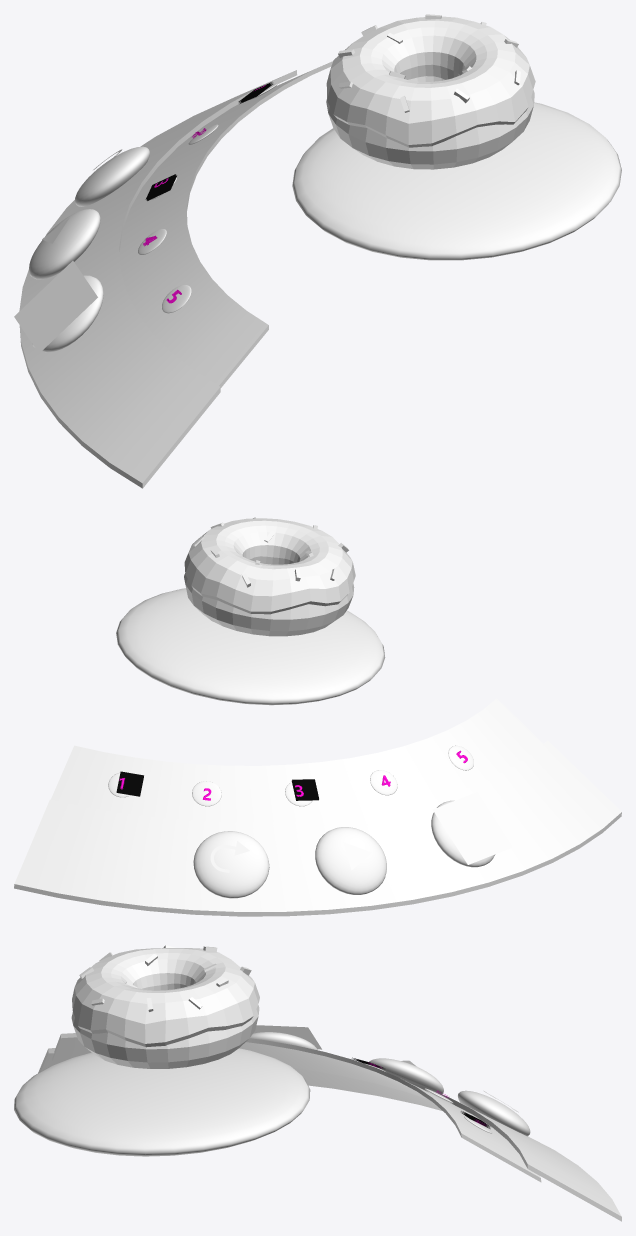
File: dashboard v2.fbx
The picture shows the model from 3 angles, top to bottom: view 1: azimuth 30°, elevation 25°; view 2: azimuth 150°, elevation 25°; view 3: azimuth 270°, elevation 25°; orthographic projection. The views are drawn at different scales.
Visible parts, largest first — view 1: Circle.008 (×2), Sphere_2(Clone) (×4), PbrOpaqueDoubleSided_p0, PbrOpaqueDoubleSided_p2, Icon_2D_MediaPlaySmall_Bold_512, PbrOpaqueDoubleSided_p1; view 2: Circle.008 (×2), Sphere_2(Clone) (×5), PbrOpaqueDoubleSided_p0, PbrOpaqueDoubleSided_p2, Icon_2D_MediaPlaySmall_Bold_512, PbrOpaqueDoubleSided_p1, Maq_TextExportedImage(Clone); view 3: Sphere_2(Clone) (×4), PbrOpaqueDoubleSided_p0, Circle.008 (×2), PbrOpaqueDoubleSided_p2, PbrOpaqueDoubleSided_p1, Icon_2D_MediaPlaySmall_Bold_512.
Part boxes in pixels (left/top/right/bottom): Circle.008 (×2): left=19, top=61, right=332, bottom=488; Sphere_2(Clone) (×4): left=29, top=102, right=621, bottom=352; PbrOpaqueDoubleSided_p0: left=326, top=16, right=535, bottom=147; PbrOpaqueDoubleSided_p2: left=326, top=76, right=534, bottom=169; Icon_2D_MediaPlaySmall_Bold_512: left=14, top=261, right=97, bottom=353; PbrOpaqueDoubleSided_p1: left=338, top=14, right=520, bottom=112; Circle.008 (×2): left=14, top=698, right=621, bottom=916; Sphere_2(Clone) (×5): left=116, top=588, right=495, bottom=898; PbrOpaqueDoubleSided_p0: left=184, top=518, right=355, bottom=614; PbrOpaqueDoubleSided_p2: left=184, top=573, right=354, bottom=636; Icon_2D_MediaPlaySmall_Bold_512: left=433, top=792, right=512, bottom=864; PbrOpaqueDoubleSided_p1: left=193, top=517, right=348, bottom=587; Maq_TextExportedImage(Clone): left=116, top=771, right=143, bottom=796; Sphere_2(Clone) (×4): left=14, top=1032, right=530, bottom=1156; PbrOpaqueDoubleSided_p0: left=72, top=948, right=259, bottom=1047; Circle.008 (×2): left=38, top=1033, right=621, bottom=1221; PbrOpaqueDoubleSided_p2: left=71, top=1005, right=259, bottom=1068; PbrOpaqueDoubleSided_p1: left=79, top=945, right=251, bottom=1011; Icon_2D_MediaPlaySmall_Bold_512: left=253, top=1025, right=321, bottom=1049.
Size of the model in its own units: 0.5459 by 0.2974 by 0.6006.
